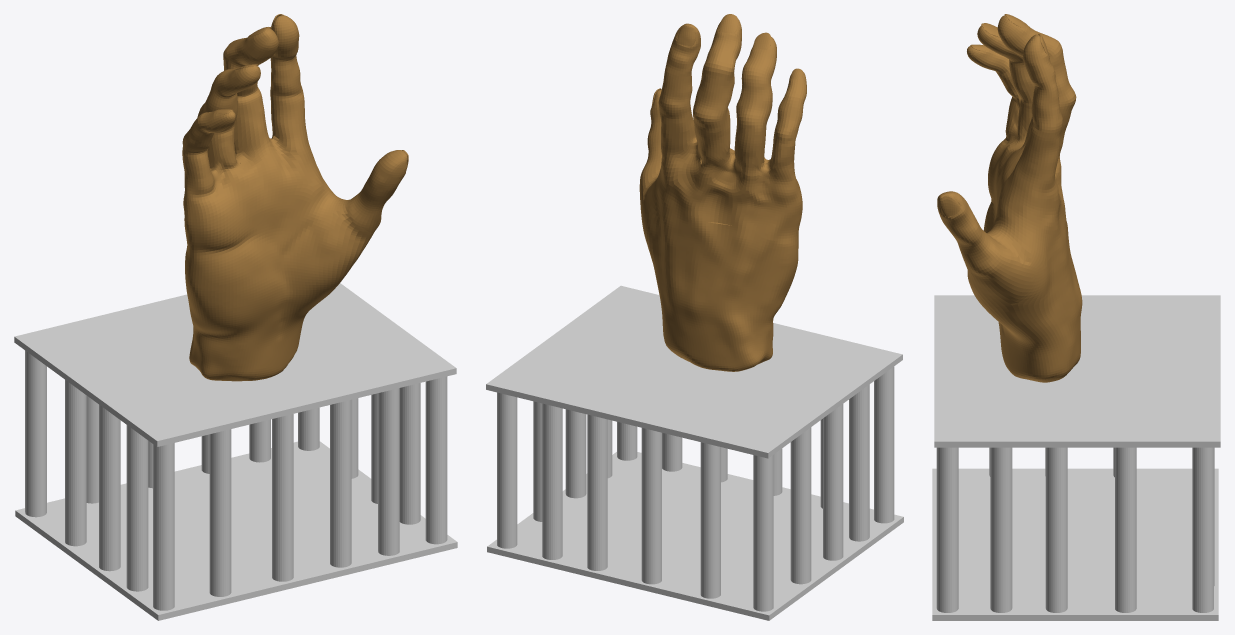
The model's file is ElHeykeli1.fbx.
The picture shows the model from 3 angles, left to right: view 1: azimuth 30°, elevation 25°; view 2: azimuth 150°, elevation 25°; view 3: azimuth 270°, elevation 25°; orthographic projection. The views are drawn at different scales.
Visible parts, largest first — view 1: Cube.001, Cube, el alt, el üst, el yan, Cylinder.003, Cylinder.005, Cylinder.017, Cylinder.001, Cylinder.006, Cylinder.007, Cylinder.008 (+14 smaller); view 2: Cube.001, Cube, el alt, el üst, orta, yüzük, isaret, Cylinder.019, Cylinder.002, Cylinder.009, Cylinder.010, Cylinder.011 (+12 smaller); view 3: Cube.001, Cube, el yan, el üst, isaret, Cylinder.003, Cylinder.015, Cylinder.016, Cylinder.004, Cylinder.014, el alt, baş (+3 smaller).
Boxes of the visible parts, x1,y1,x2,y2 form: Cube.001: (14,283,456,446); Cube: (15,441,457,620); el alt: (185,221,301,381); el üst: (183,134,326,252); el yan: (278,185,373,373); Cylinder.003: (425,376,447,544); Cylinder.005: (209,429,231,596); Cylinder.017: (126,425,148,591); Cylinder.001: (153,443,174,610); Cylinder.006: (272,414,293,581); Cylinder.007: (330,399,351,567); Cylinder.008: (378,388,399,555); Cube.001: (486,285,902,458); Cube: (487,452,903,620); el alt: (655,205,798,371); el üst: (655,137,802,233); orta: (693,14,741,170); yüzük: (734,32,776,181); isaret: (658,23,700,145); Cylinder.019: (790,427,811,584); Cylinder.002: (753,455,773,611); Cylinder.009: (700,442,720,598); Cylinder.010: (641,428,661,584); Cylinder.011: (587,414,607,570); Cube.001: (934,295,1220,447); Cube: (932,468,1218,620); el yan: (966,213,1070,382); el üst: (988,132,1066,238); isaret: (1021,34,1062,171); Cylinder.003: (936,447,958,612); Cylinder.015: (1045,447,1067,612); Cylinder.016: (990,447,1012,612); Cylinder.004: (1192,447,1213,612); Cylinder.014: (1115,447,1136,612); el alt: (983,196,1082,371); baş: (937,191,1008,276).
Bounding box in the file's own units: 3178 × 5382 × 2648.
